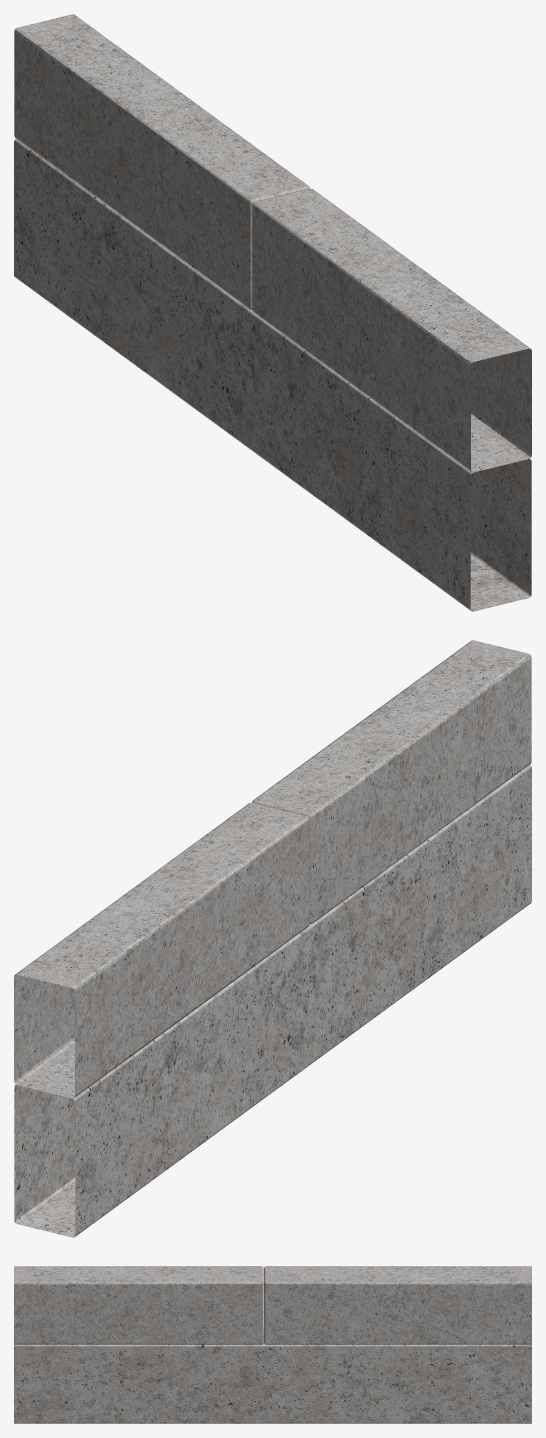
The model's file is SM_Gidan01I.fbx.
3 renders of one model, top to bottom at view 1: azimuth 30°, elevation 25°; view 2: azimuth 150°, elevation 25°; view 3: azimuth 270°, elevation 25°, orthographic. The views are drawn at different scales.
Parts seen in each view (by area): view 1: SM_Gidan01I; view 2: SM_Gidan01I; view 3: SM_Gidan01I.
Boxes of the visible parts, left/top/right/bottom form: SM_Gidan01I: left=14, top=14, right=531, bottom=611; SM_Gidan01I: left=14, top=640, right=531, bottom=1237; SM_Gidan01I: left=14, top=1266, right=531, bottom=1423.
Size of the model in its own units: 20.16 by 260 by 78.37.
